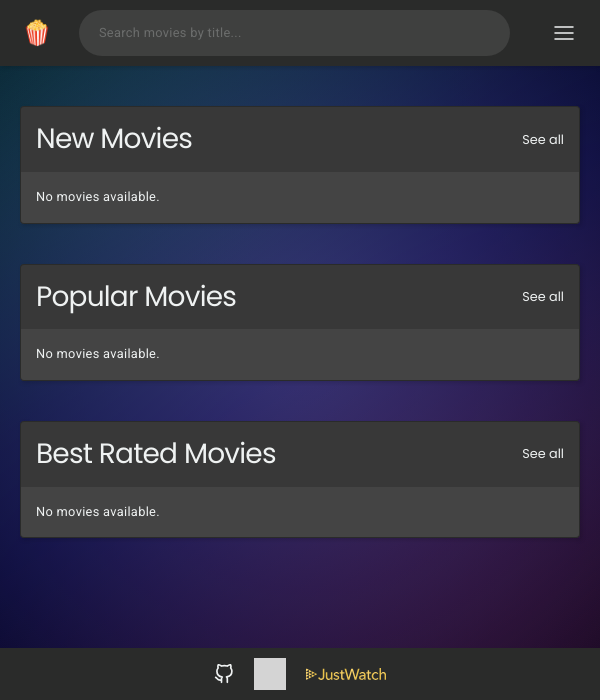
Test: Header tests › Navbar tests when screen width < 1024px › Navigate to Login with navbar
Click the icon with test id "header [data-cy=\"menu-icon\"]" at (564, 33), box [552, 21, 576, 45]
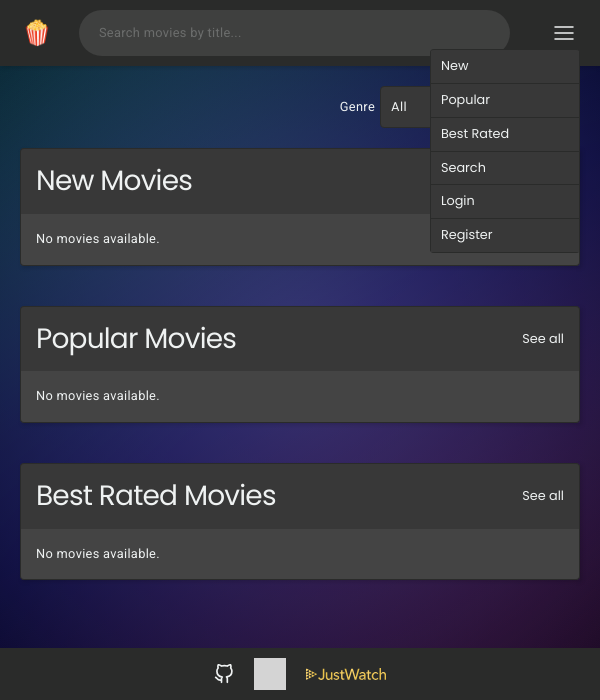
Click the link to "/login" at (505, 202), box [430, 185, 580, 219]
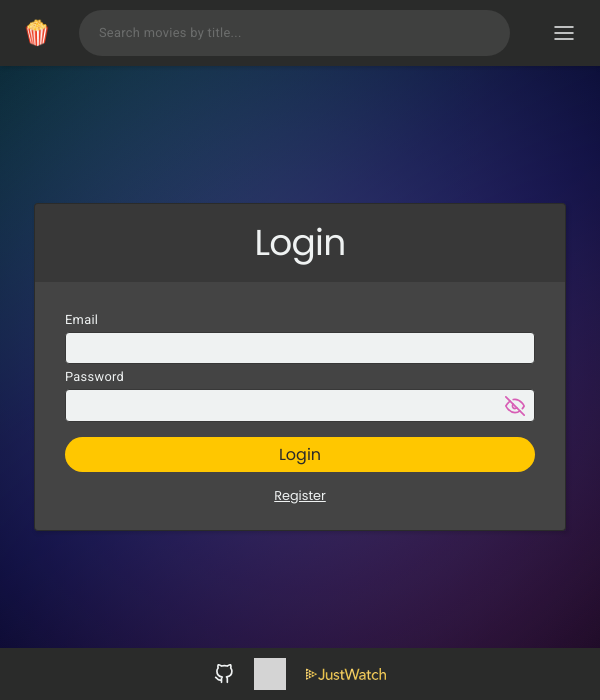
Expected: the heading "Login" is shown, [255, 214, 345, 272]
